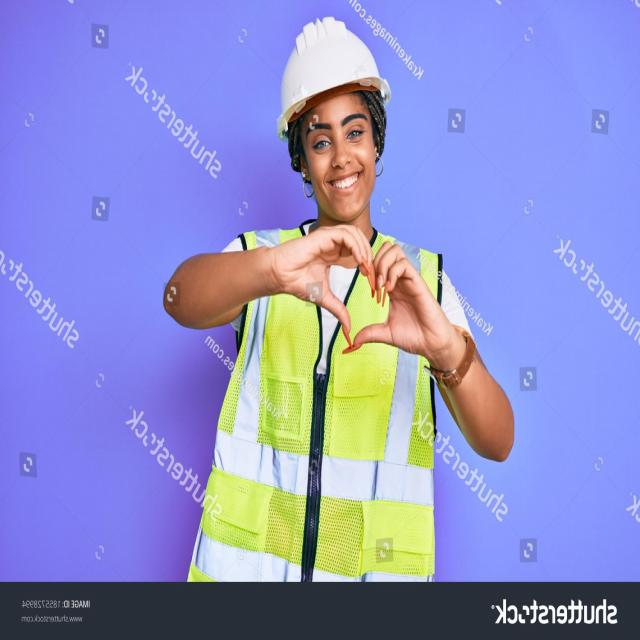Reflective-Jacket: (183, 227, 446, 581)
Safety-Helmet: (272, 17, 391, 135)
